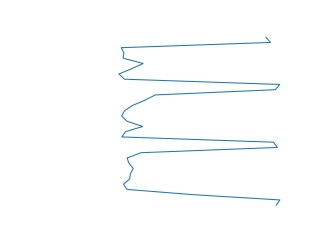majorRiverChannelBar: (116, 35, 285, 208)
